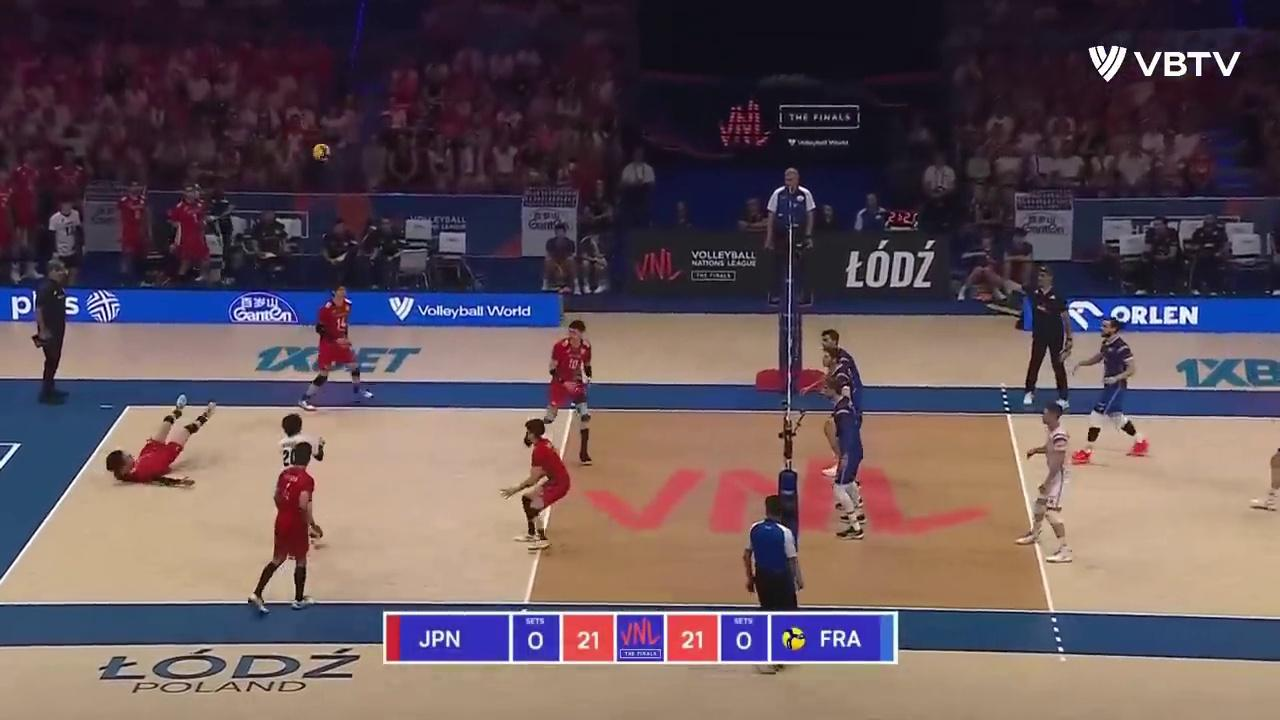ball: (313, 143, 331, 163)
